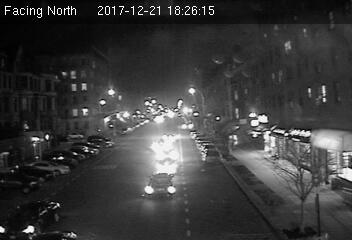car: (1, 195, 63, 240), (142, 172, 177, 198), (155, 147, 180, 164)
